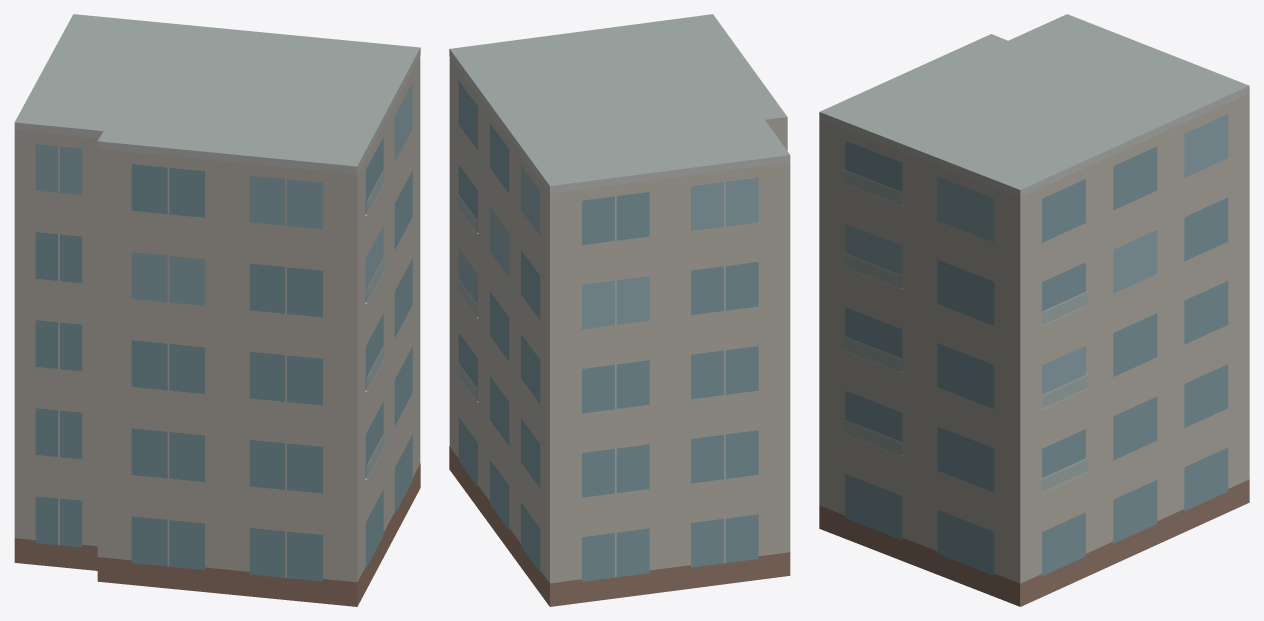
File: survey-upis-33045439.glb
3 views of the same model, side by side, from view 1: azimuth 30°, elevation 25°; view 2: azimuth 150°, elevation 25°; view 3: azimuth 270°, elevation 25° (orthographic). The views are drawn at different scales.
Visible parts, largest first — view 1: survey-upis-33045439.tmp; view 2: survey-upis-33045439.tmp; view 3: survey-upis-33045439.tmp.
Part boxes in pixels (bbox=[...]): survey-upis-33045439.tmp: bbox=[14, 14, 420, 606]; survey-upis-33045439.tmp: bbox=[449, 14, 790, 606]; survey-upis-33045439.tmp: bbox=[819, 14, 1249, 606].
Bounding box in the file's own units: 12.6 × 13.9 × 13.01.
